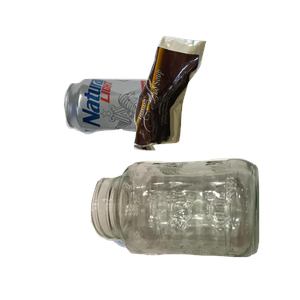glass: (88, 156, 300, 300)
metal: (61, 75, 231, 202)
plastic: (98, 176, 266, 300)
trash: (131, 34, 300, 177)
